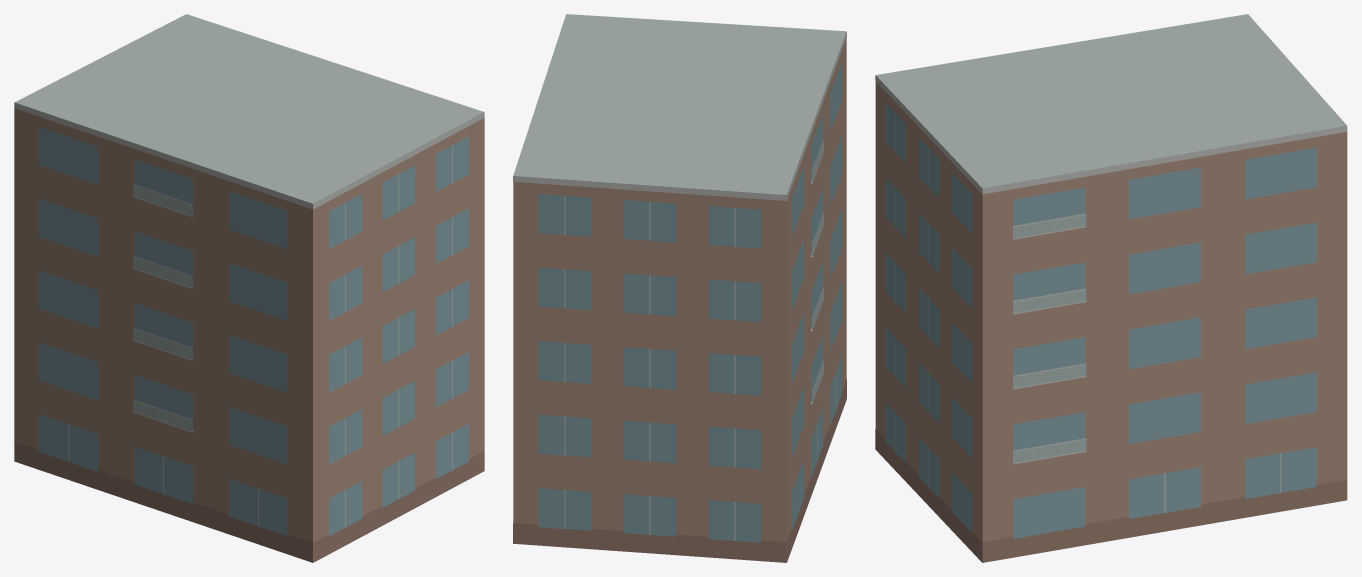
File: survey-upis-33022958.glb
3 views of the same model, side by side, from view 1: azimuth 30°, elevation 25°; view 2: azimuth 150°, elevation 25°; view 3: azimuth 270°, elevation 25° (orthographic). The views are drawn at different scales.
Visible parts, largest first — view 1: survey-upis-33022958.tmp; view 2: survey-upis-33022958.tmp; view 3: survey-upis-33022958.tmp.
Boxes of the visible parts, box(x1,y1,x2,y2) form: survey-upis-33022958.tmp: box(14, 14, 484, 562); survey-upis-33022958.tmp: box(513, 14, 846, 562); survey-upis-33022958.tmp: box(875, 14, 1347, 562).
Bounding box in the file's own units: 15.24 × 15.25 × 17.42.
